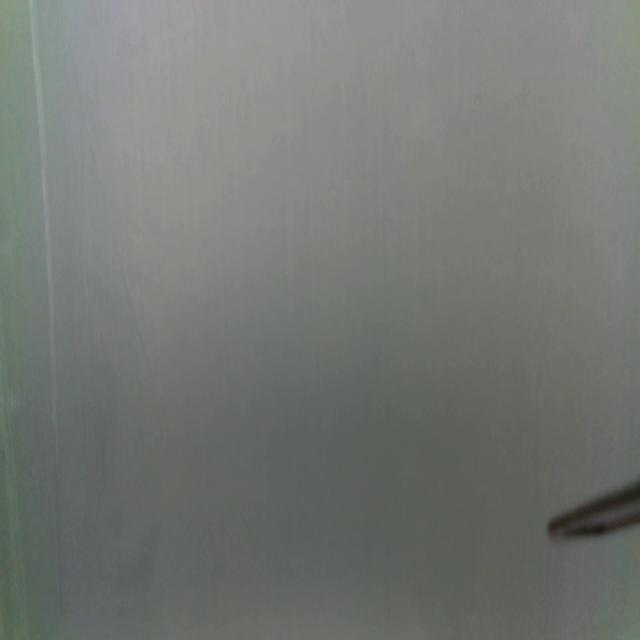crease: (58, 5, 156, 388), (30, 0, 66, 612), (0, 305, 26, 638)
